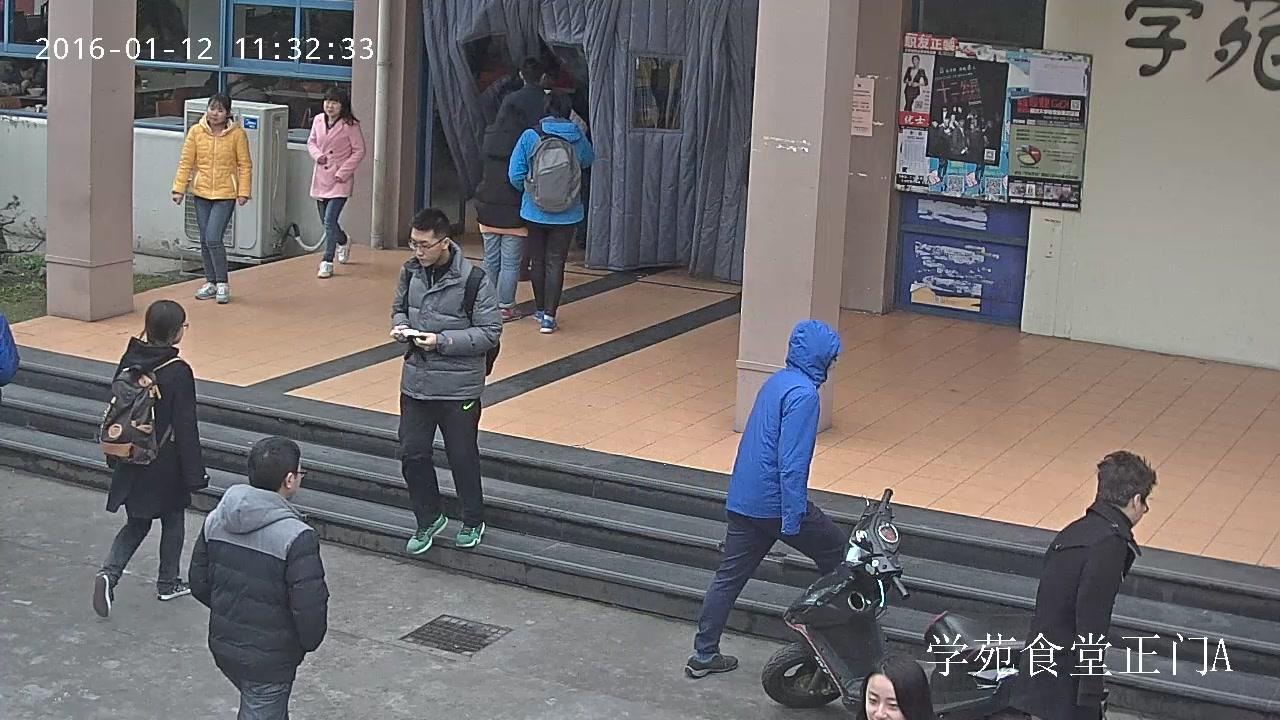person: (683, 319, 851, 677), (1006, 449, 1158, 720), (188, 435, 329, 720), (388, 207, 503, 556), (93, 300, 210, 616), (508, 88, 594, 333), (170, 92, 250, 303), (474, 95, 538, 320), (501, 56, 559, 281), (306, 85, 365, 278), (0, 57, 43, 99), (903, 54, 928, 111)
